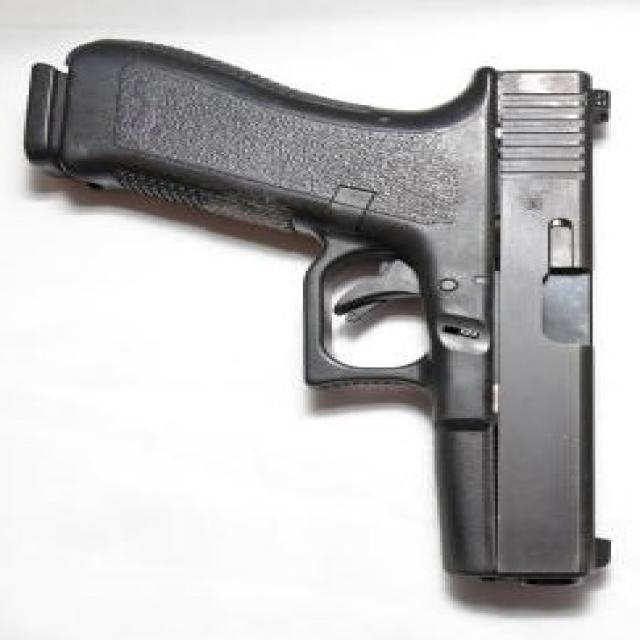pistol: (5, 32, 623, 599)
